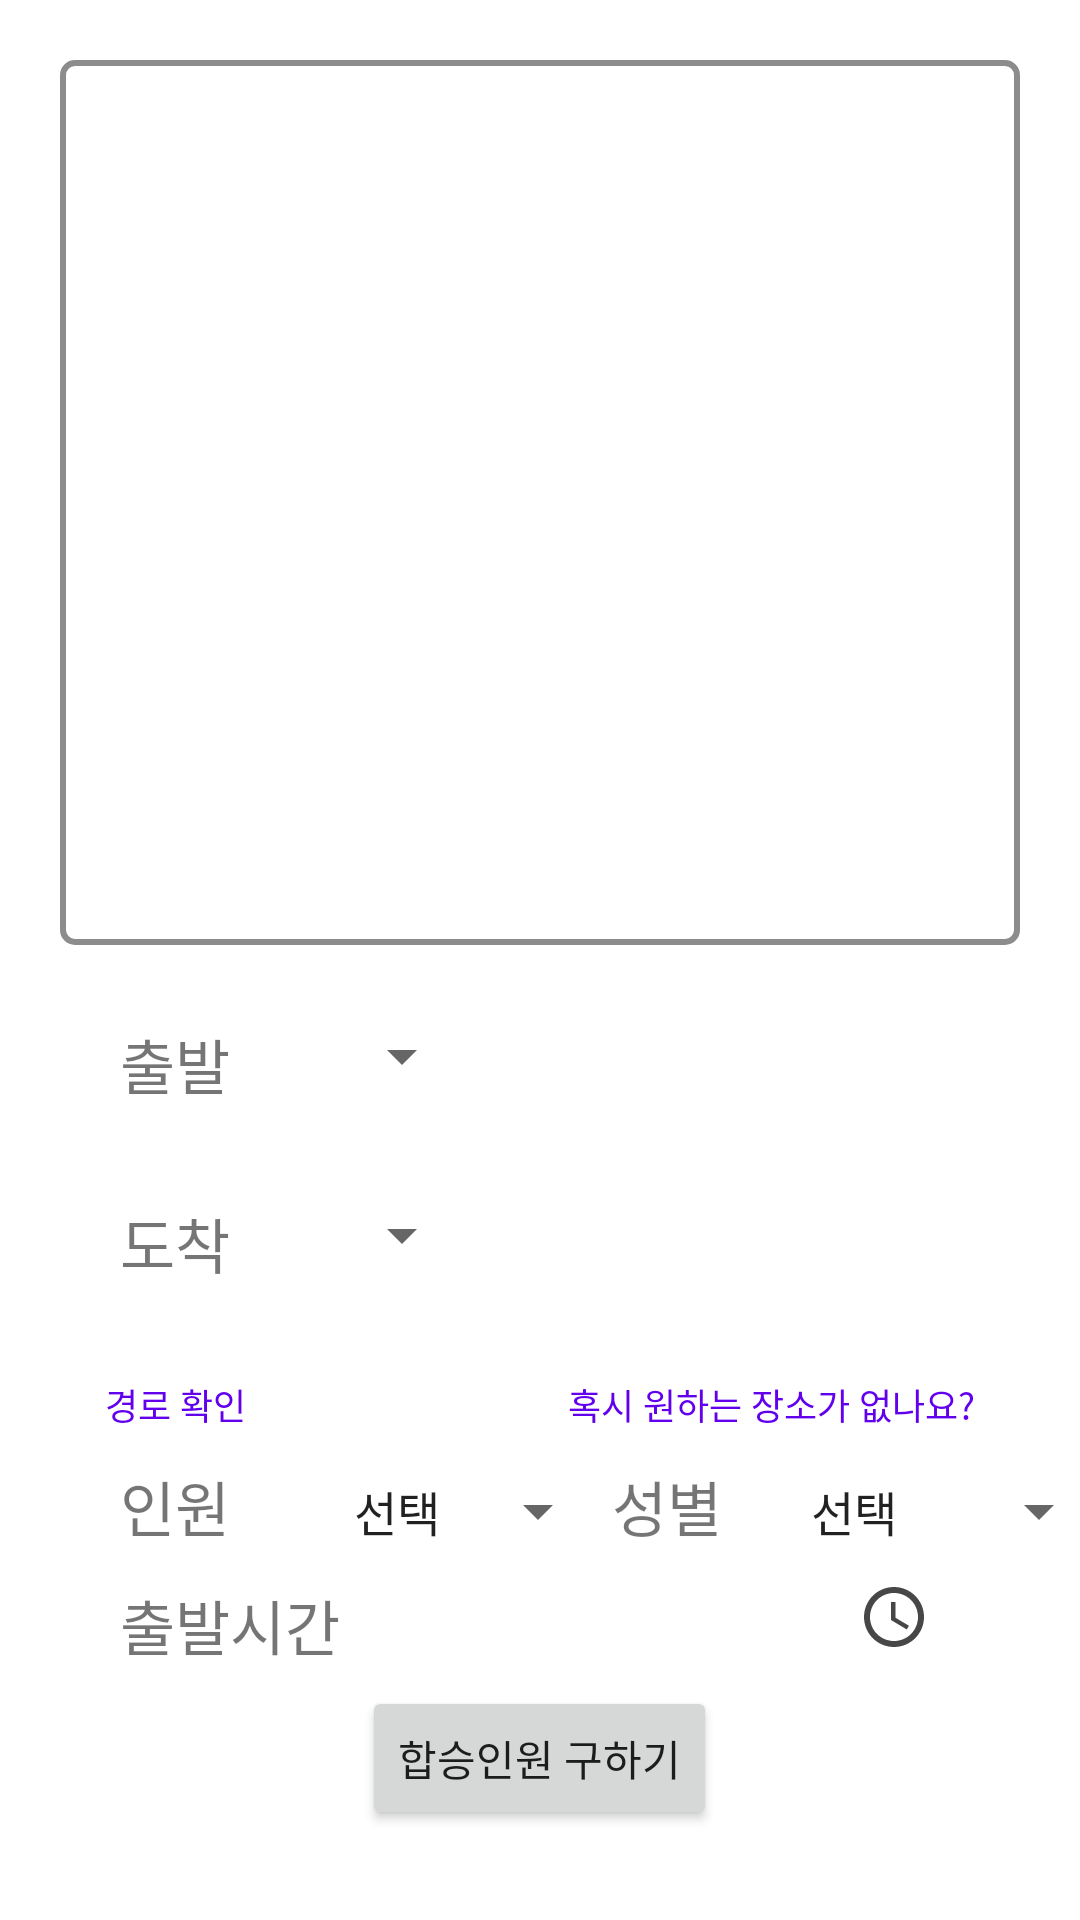

Icon click points for this 1080 × 1920 phone screenshot, format point (x, y):
time: point (894, 1617)
